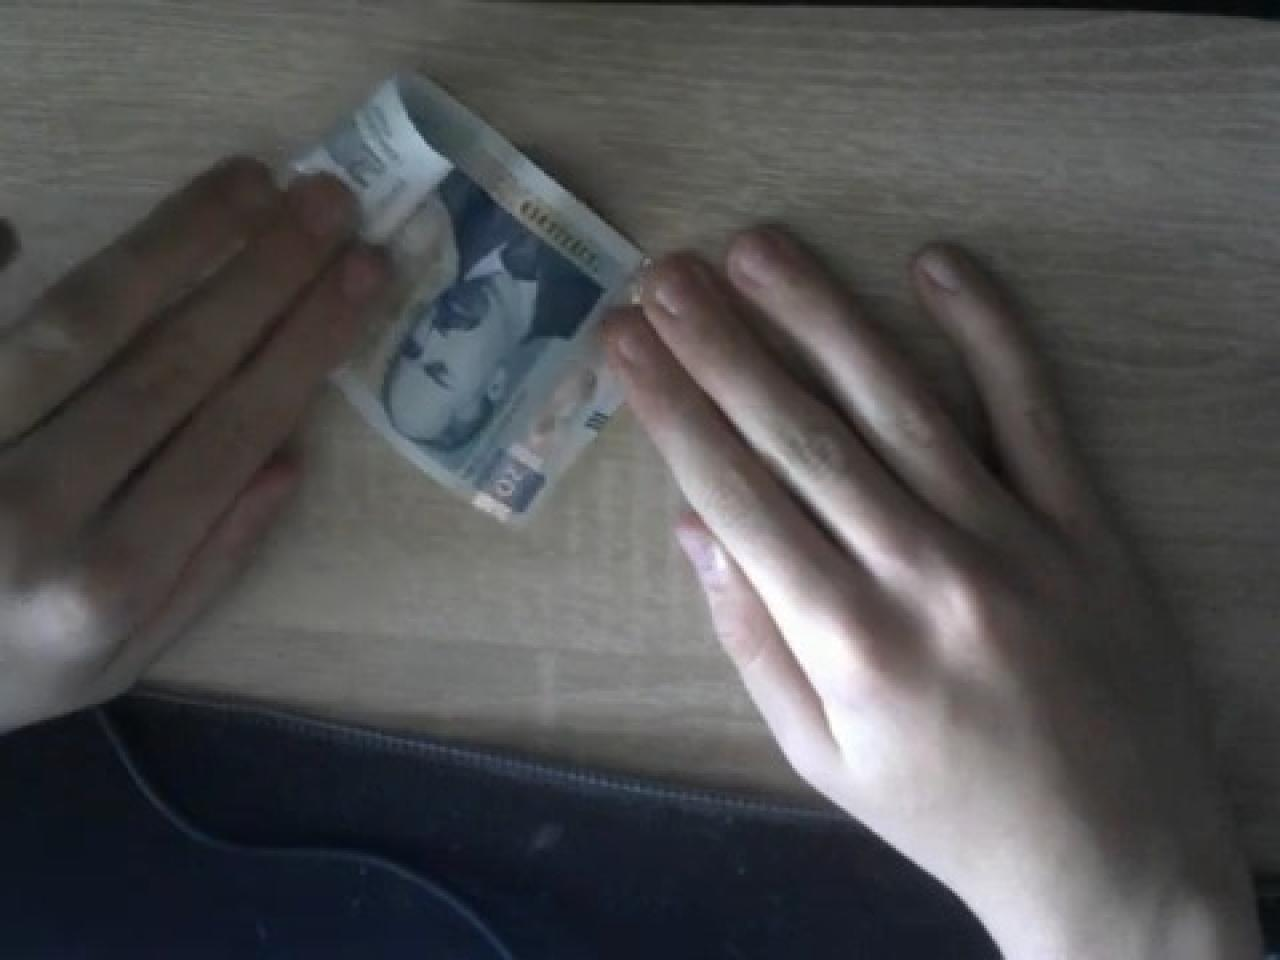20leva: (298, 67, 643, 522)
